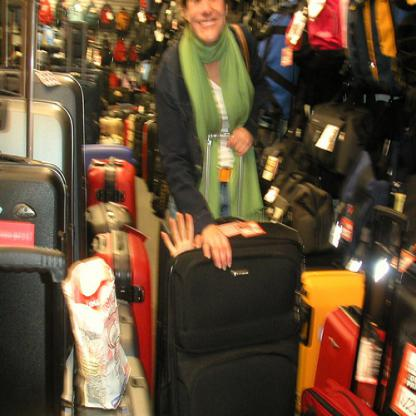backpack: (350, 3, 408, 87), (296, 32, 345, 109), (306, 0, 348, 49)
handbag: (239, 30, 282, 149)
suitcase: (43, 0, 415, 415), (153, 222, 300, 407), (0, 68, 87, 260), (0, 94, 76, 263), (91, 229, 153, 390), (296, 269, 365, 407), (1, 270, 63, 407), (0, 156, 72, 267), (85, 159, 137, 228), (301, 377, 379, 416), (120, 355, 155, 411), (87, 203, 134, 235), (134, 112, 156, 178), (84, 144, 137, 169)
